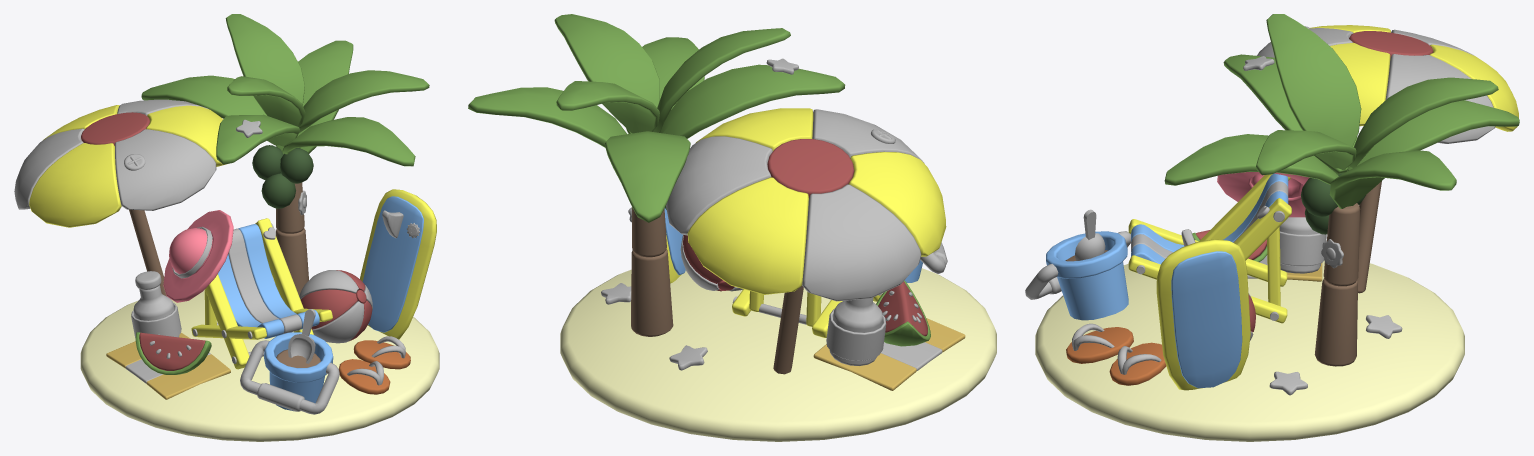
The model's file is HawaiiBeach02.fbx.
The picture shows the model from 3 angles, left to right: view 1: azimuth 30°, elevation 25°; view 2: azimuth 150°, elevation 25°; view 3: azimuth 270°, elevation 25°; orthographic projection. The views are drawn at different scales.
Parts seen in each view (by area): view 1: S_HawaiiBeach_1, M_HawaiiBeach_003, M_HawaiiBeach_004, S_HawaiiBeach_13, S_HawaiiBeach_27, S_HawaiiBeach_23, S_HawaiiBeach_19, S_HawaiiBeach_20, S_HawaiiBeach_24, M_HawaiiBeach_007, M_HawaiiBeach_11, S_HawaiiBeach_3 (+33 smaller); view 2: S_HawaiiBeach_1, M_HawaiiBeach_001, M_HawaiiBeach_002, S_HawaiiBeach_25, M_HawaiiBeach_005, M_HawaiiBeach_004, S_HawaiiBeach_20, S_HawaiiBeach_24, S_HawaiiBeach_21, S_HawaiiBeach_40, S_HawaiiBeach_22, M_HawaiiBeach_4 (+20 smaller); view 3: S_HawaiiBeach_1, S_HawaiiBeach_14, S_HawaiiBeach_22, S_HawaiiBeach_3, S_HawaiiBeach_23, M_HawaiiBeach_007, S_HawaiiBeach_19, S_HawaiiBeach_24, S_HawaiiBeach_21, M_HawaiiBeach_4, S_HawaiiBeach_004, S_HawaiiBeach_20 (+23 smaller).
Boxes of the visible parts, x1=… form: S_HawaiiBeach_1: x1=80, y1=280, x2=439, y2=441; M_HawaiiBeach_003: x1=115, y1=129, x2=216, y2=210; M_HawaiiBeach_004: x1=29, y1=143, x2=121, y2=227; S_HawaiiBeach_13: x1=362, y1=196, x2=423, y2=332; S_HawaiiBeach_27: x1=163, y1=210, x2=233, y2=302; S_HawaiiBeach_23: x1=225, y1=14, x2=304, y2=114; S_HawaiiBeach_19: x1=282, y1=117, x2=415, y2=166; S_HawaiiBeach_20: x1=299, y1=70, x2=429, y2=132; S_HawaiiBeach_24: x1=141, y1=75, x2=266, y2=118; M_HawaiiBeach_007: x1=360, y1=189, x2=436, y2=339; M_HawaiiBeach_11: x1=252, y1=145, x2=313, y2=208; S_HawaiiBeach_3: x1=264, y1=332, x2=333, y2=411; S_HawaiiBeach_1: x1=560, y1=268, x2=996, y2=441; M_HawaiiBeach_001: x1=687, y1=177, x2=808, y2=294; M_HawaiiBeach_002: x1=802, y1=184, x2=921, y2=301; S_HawaiiBeach_25: x1=660, y1=64, x2=845, y2=138; M_HawaiiBeach_005: x1=666, y1=136, x2=772, y2=235; M_HawaiiBeach_004: x1=849, y1=151, x2=946, y2=256; S_HawaiiBeach_20: x1=554, y1=14, x2=659, y2=107; S_HawaiiBeach_24: x1=605, y1=131, x2=690, y2=222; S_HawaiiBeach_21: x1=468, y1=87, x2=626, y2=147; S_HawaiiBeach_40: x1=767, y1=139, x2=854, y2=197; S_HawaiiBeach_22: x1=652, y1=28, x2=790, y2=132; M_HawaiiBeach_4: x1=631, y1=249, x2=673, y2=336; S_HawaiiBeach_1: x1=1035, y1=260, x2=1464, y2=441; S_HawaiiBeach_14: x1=1171, y1=251, x2=1242, y2=388; S_HawaiiBeach_22: x1=1266, y1=14, x2=1361, y2=146; S_HawaiiBeach_3: x1=1046, y1=231, x2=1128, y2=320; S_HawaiiBeach_23: x1=1349, y1=77, x2=1498, y2=167; M_HawaiiBeach_007: x1=1156, y1=239, x2=1250, y2=390; S_HawaiiBeach_19: x1=1164, y1=134, x2=1338, y2=185; S_HawaiiBeach_24: x1=1347, y1=100, x2=1519, y2=170; S_HawaiiBeach_21: x1=1329, y1=150, x2=1456, y2=208; M_HawaiiBeach_4: x1=1314, y1=278, x2=1357, y2=366; S_HawaiiBeach_004: x1=1128, y1=198, x2=1291, y2=323; S_HawaiiBeach_20: x1=1256, y1=130, x2=1356, y2=175.
Bounding box in the file's own units: 5.87 × 4.43 × 6.
